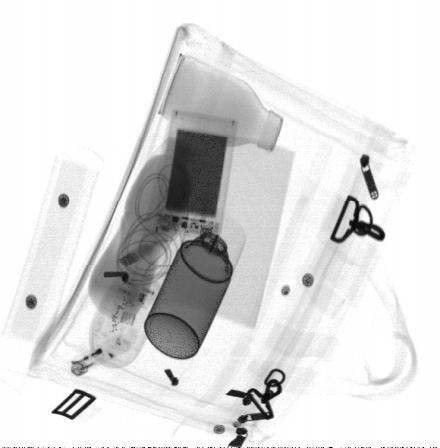Lighter: (69, 337, 130, 375)
Powerbank: (154, 112, 238, 239)
Sprayer: (143, 209, 247, 360)
